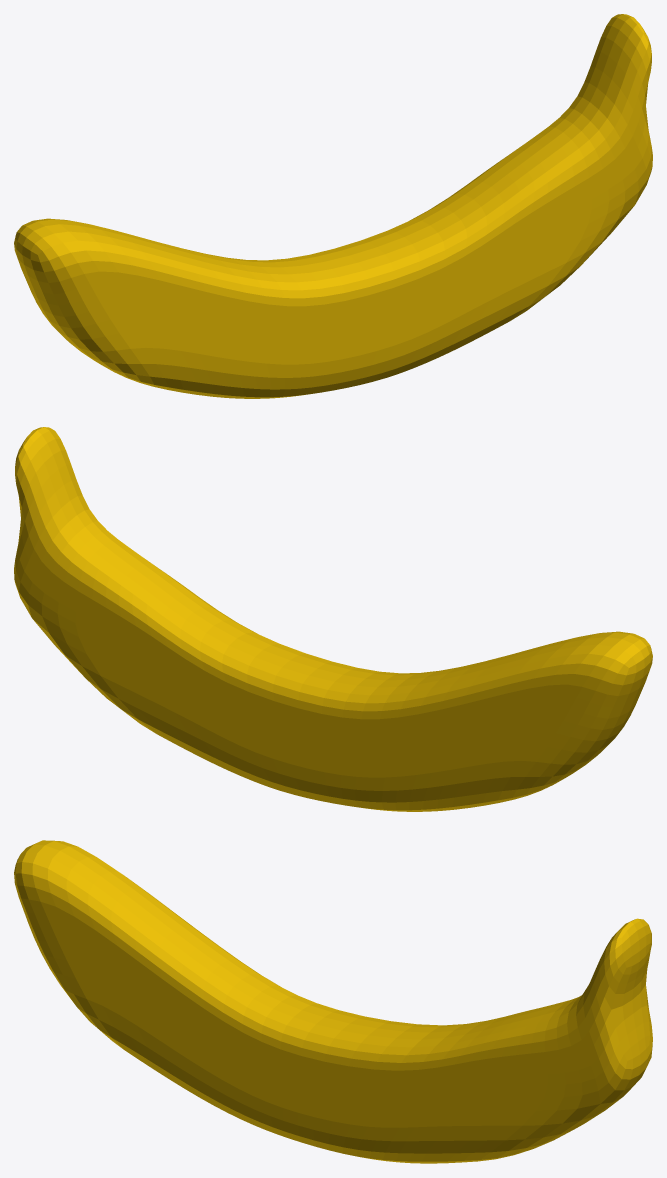
File: myBanana.fbx
3 renders of one model, top to bottom at view 1: azimuth 30°, elevation 25°; view 2: azimuth 150°, elevation 25°; view 3: azimuth 330°, elevation 25°, orthographic.
Parts seen in each view (by area): view 1: Sphere; view 2: Sphere; view 3: Sphere.
Part boxes in pixels (x1,y1,x2,y2): Sphere: (14, 14, 652, 398); Sphere: (14, 427, 652, 811); Sphere: (14, 840, 652, 1163).
Bounding box in the file's own units: 501 × 229 × 61.5.
